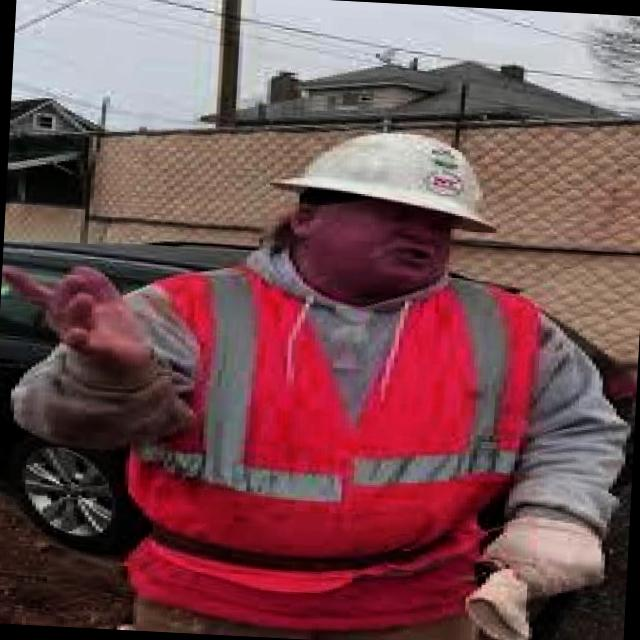vest: (121, 259, 541, 604)
